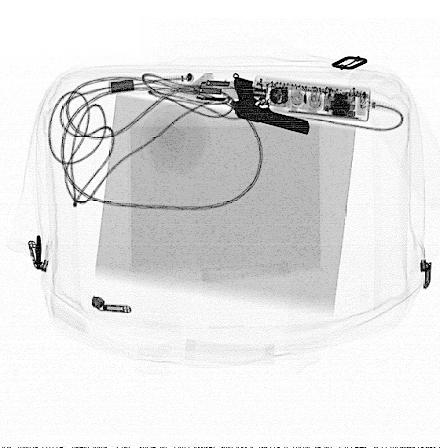Gun: (231, 77, 310, 136)
